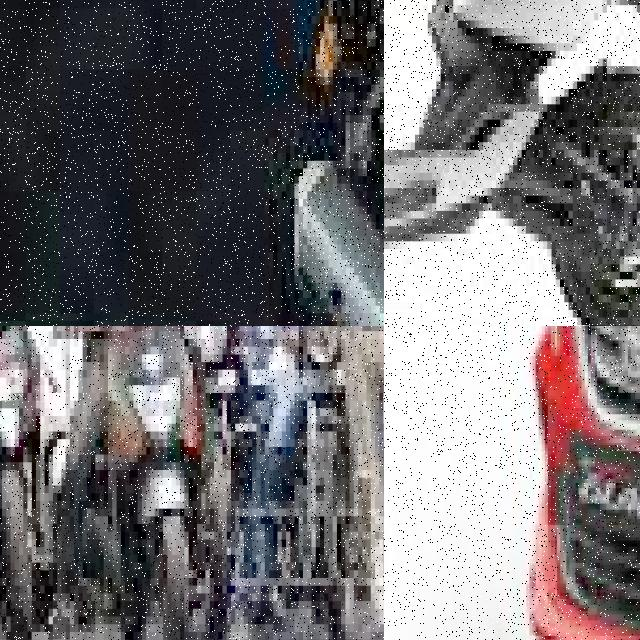bike: (384, 0, 640, 326), (91, 326, 214, 640), (0, 326, 74, 640), (294, 326, 358, 640)
car: (492, 326, 640, 640)
